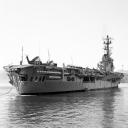Portanaves: (3, 35, 126, 97)
